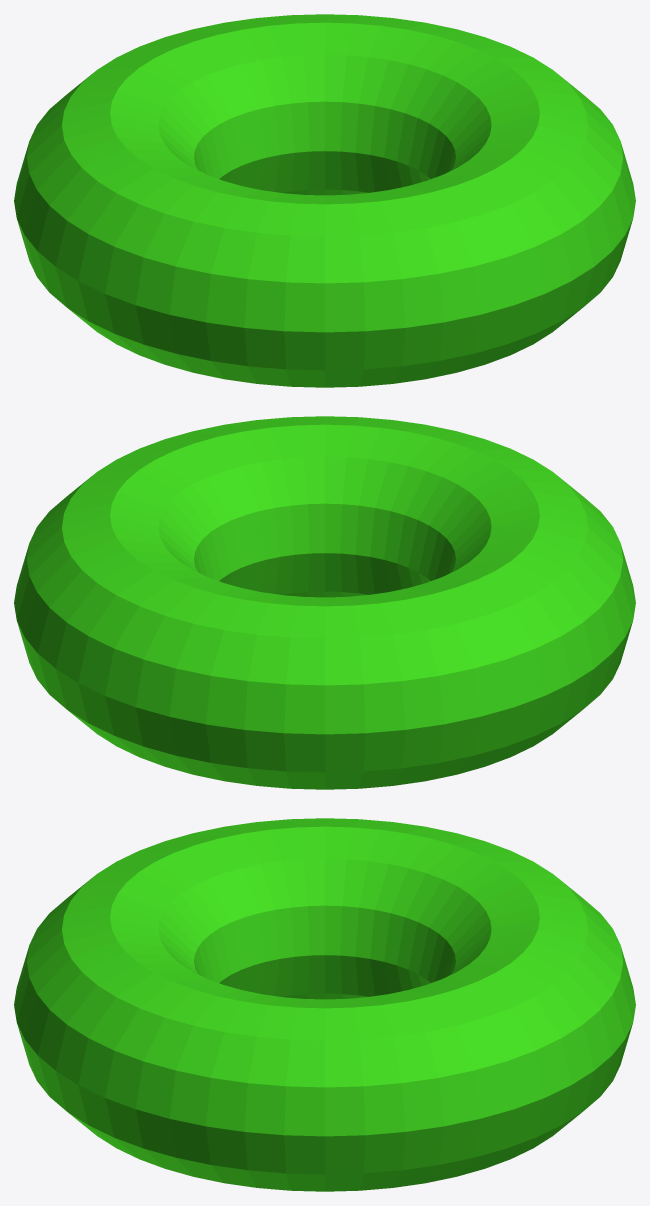
3 renders of one model, top to bottom at view 1: azimuth 30°, elevation 25°; view 2: azimuth 150°, elevation 25°; view 3: azimuth 270°, elevation 25°, orthographic.
Visible parts, largest first — view 1: Torus; view 2: Torus; view 3: Torus.
Boxes of the visible parts, bbox=[...] form: Torus: bbox=[14, 14, 635, 387]; Torus: bbox=[14, 416, 635, 789]; Torus: bbox=[14, 818, 635, 1191].
Bounding box in the file's own units: 2.9 × 0.9 × 2.9.
